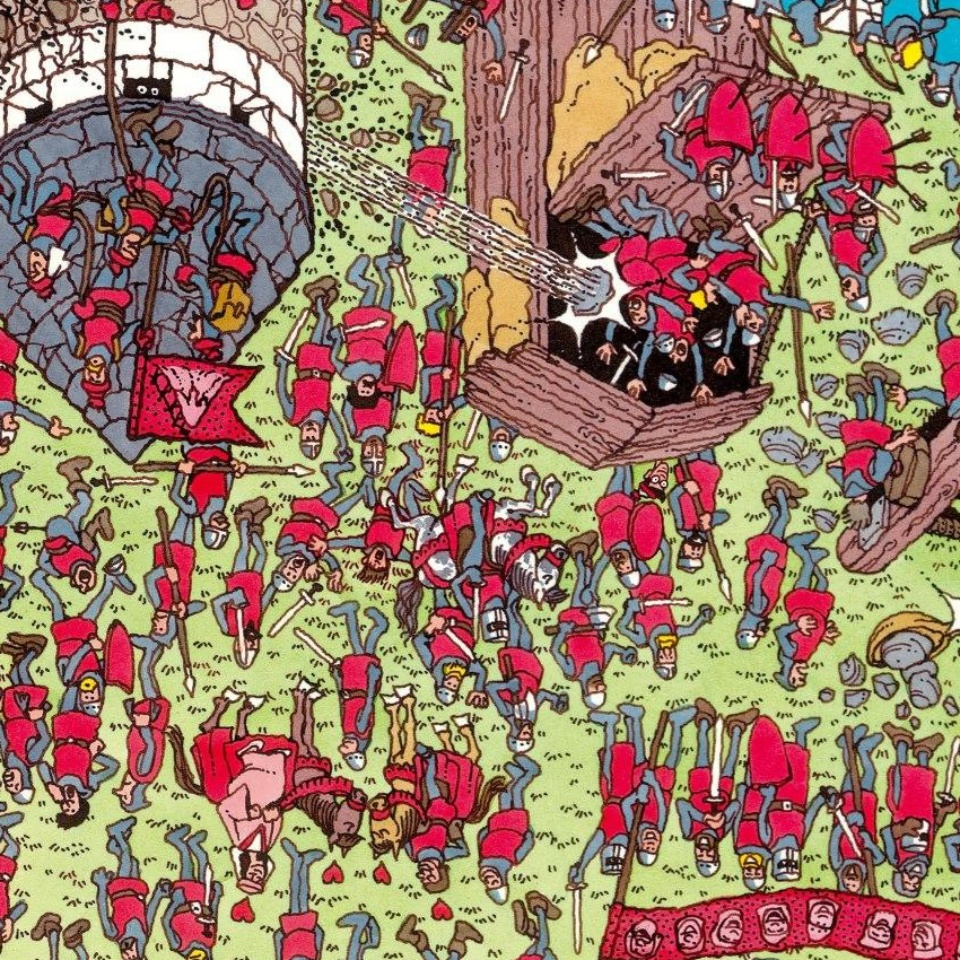waldo: (632, 459, 671, 501)
